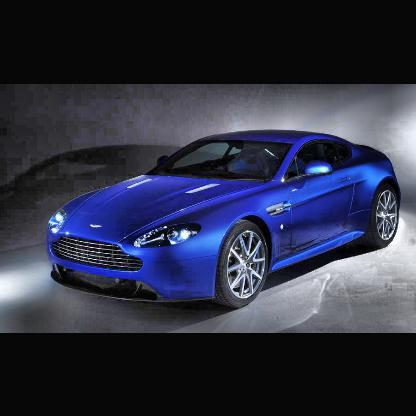Aston Martin V8 Vantage Coupe 2012: (44, 126, 405, 313)
